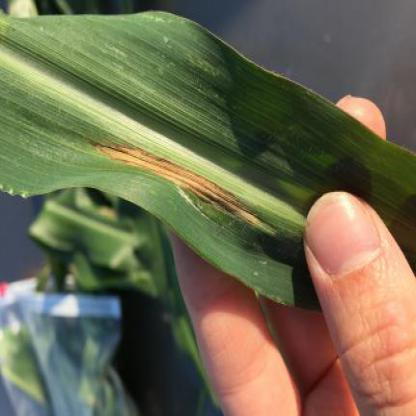corn leaf blight: (3, 14, 302, 287)
